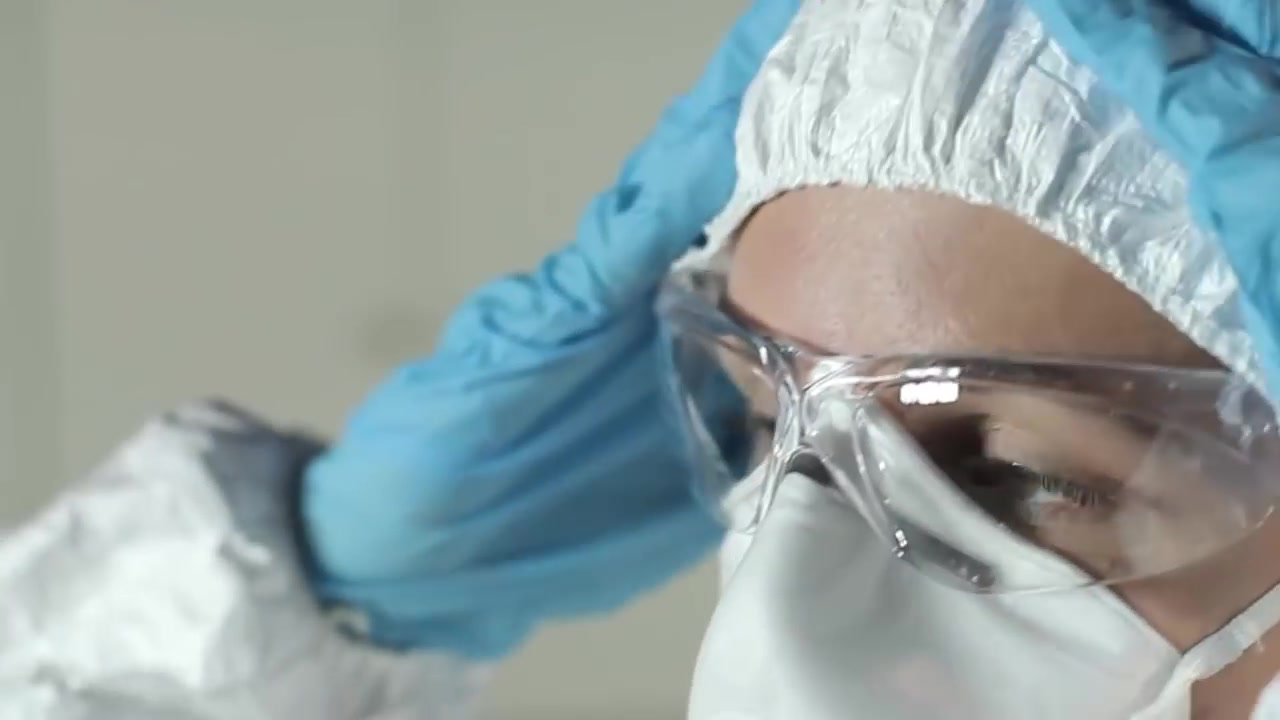Gloves: (300, 127, 758, 613)
Goggles: (648, 275, 1280, 578)
with_mask: (653, 399, 1162, 720)
